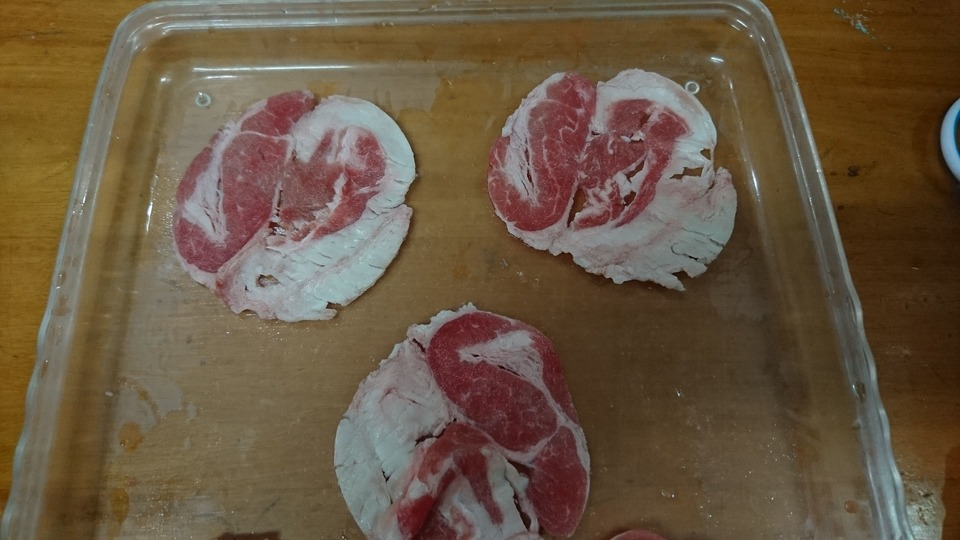restructured meat: (486, 47, 742, 289), (337, 298, 593, 540), (173, 88, 414, 330)
